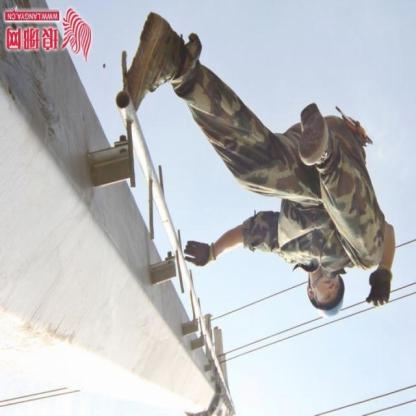blue: (306, 298, 352, 320)
